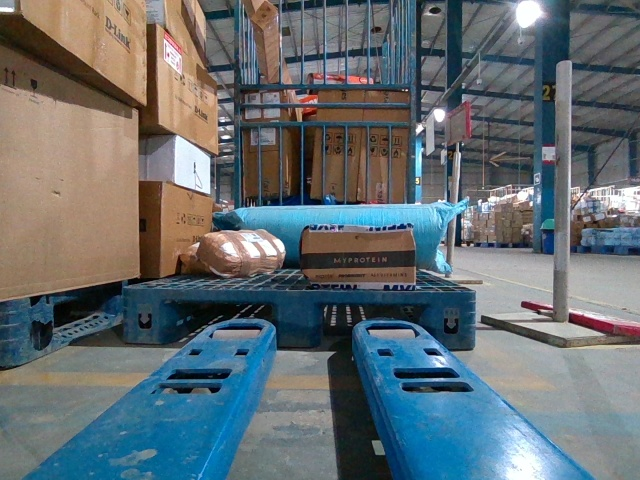pallet: (124, 285, 476, 350)
